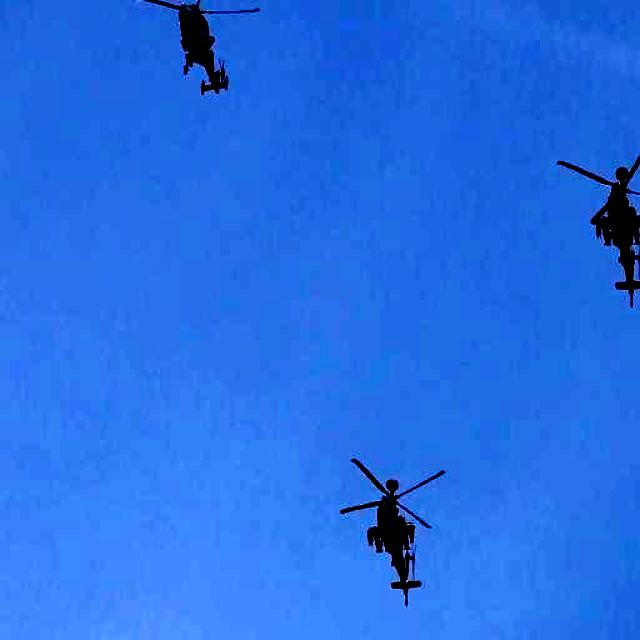drone: (336, 449, 459, 618), (555, 140, 640, 304), (130, 0, 264, 102)
